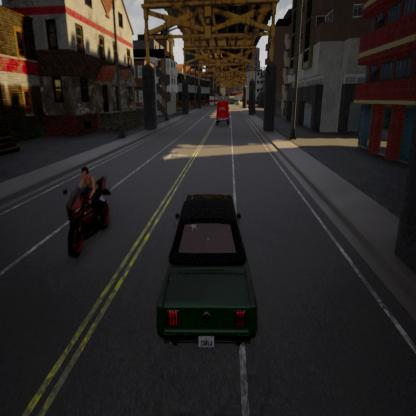Cars: (157, 198, 257, 352), (64, 163, 111, 262), (216, 99, 231, 127)
